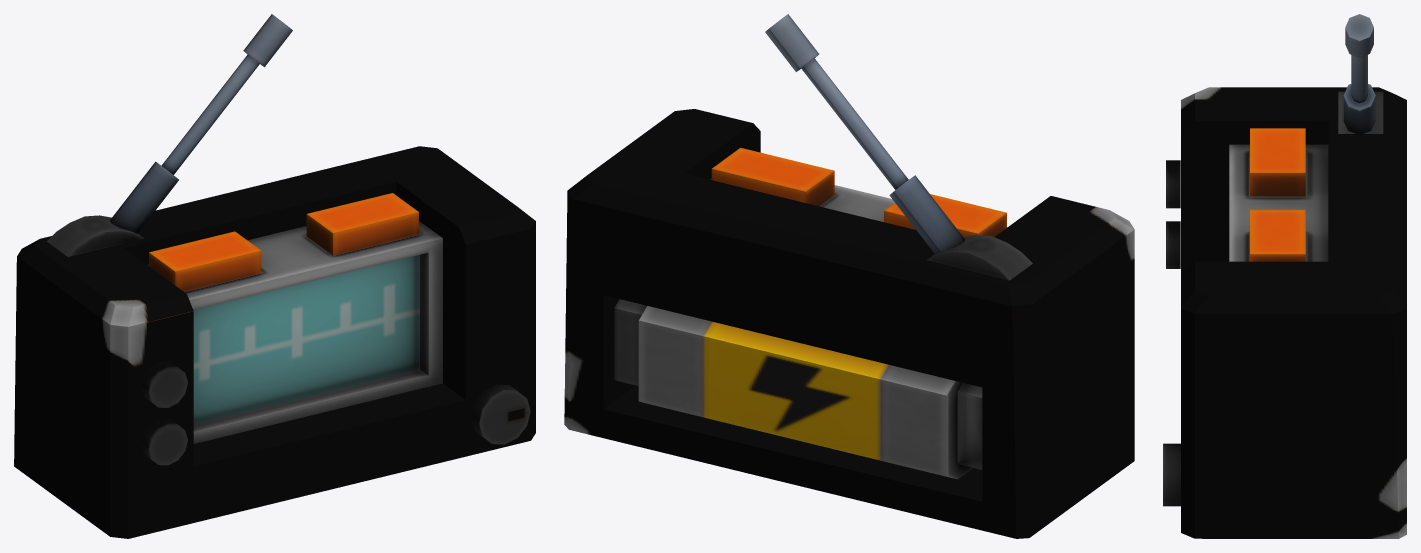
Rendered from obj_interactive_small_radio_off.fbx.
The picture shows the model from 3 angles, left to right: view 1: azimuth 30°, elevation 25°; view 2: azimuth 150°, elevation 25°; view 3: azimuth 270°, elevation 25°; orthographic projection. The views are drawn at different scales.
Parts seen in each view (by area): view 1: obj_interactive_radio_off_lod0.001; view 2: obj_interactive_radio_off_lod0.001; view 3: obj_interactive_radio_off_lod0.001.
Part boxes in pixels (box(x1,y1,x2,y2)): obj_interactive_radio_off_lod0.001: box(14, 14, 535, 538); obj_interactive_radio_off_lod0.001: box(564, 14, 1134, 538); obj_interactive_radio_off_lod0.001: box(1163, 14, 1406, 538).
Bounding box in the file's own units: 2 × 1.82 × 0.9368.
